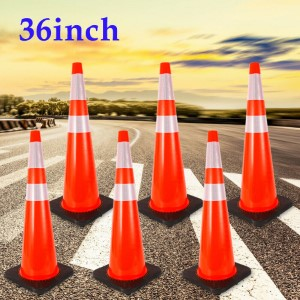traffic cone: (46, 61, 117, 228), (92, 130, 163, 296), (133, 62, 204, 228), (4, 130, 74, 297), (183, 130, 252, 296), (223, 62, 292, 228)
